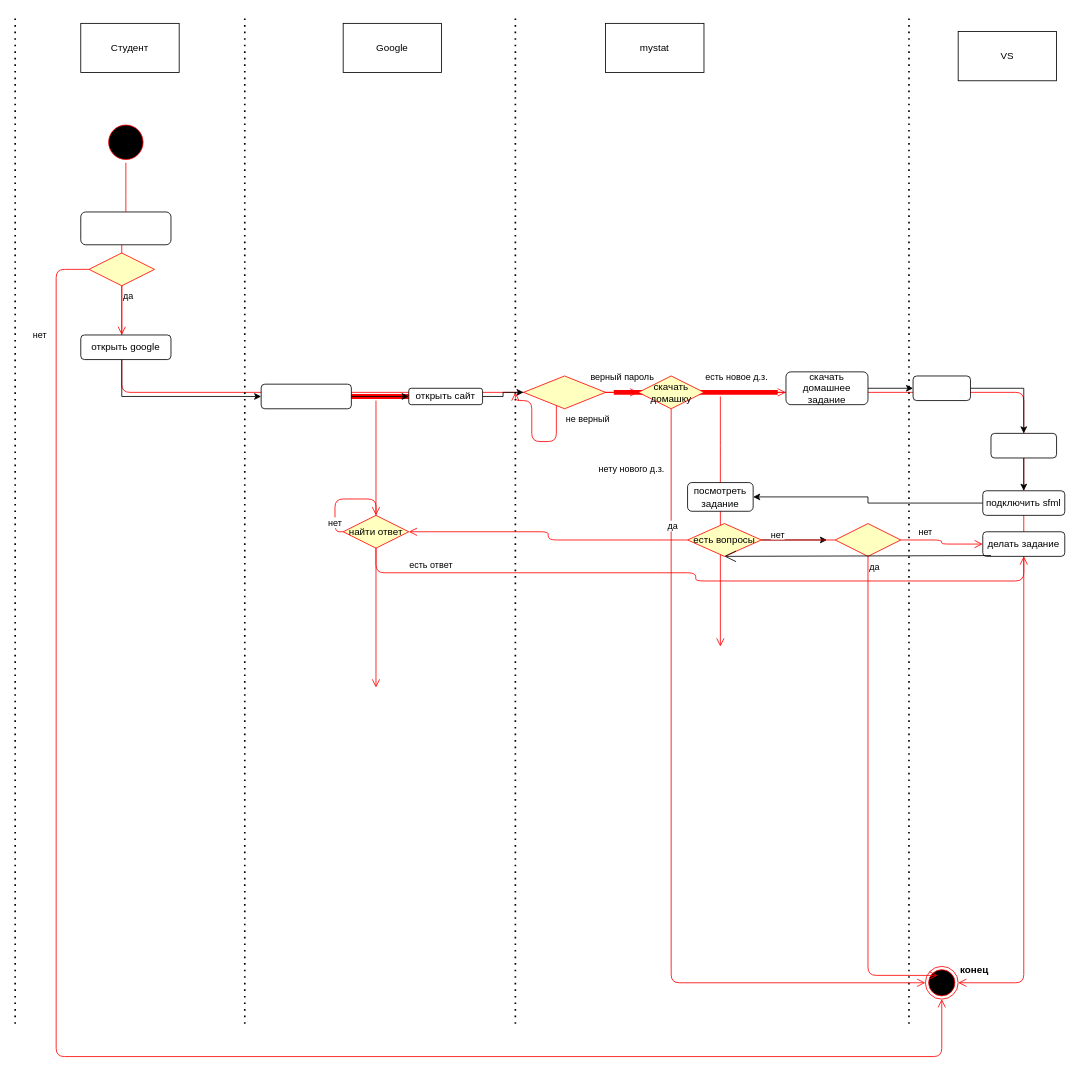
Image size: 1079x1079. Some labels were removed from this diagram. The centre of each missing label's shape, as x and y in pixels:
аутентификация: (564,392)
включить компьютер: (125,228)
Есть интернет: (121,269)
задание готово: (867,539)
написать mystat: (305,396)
открыть VS: (941,388)
создать новый проект: (1023,445)
